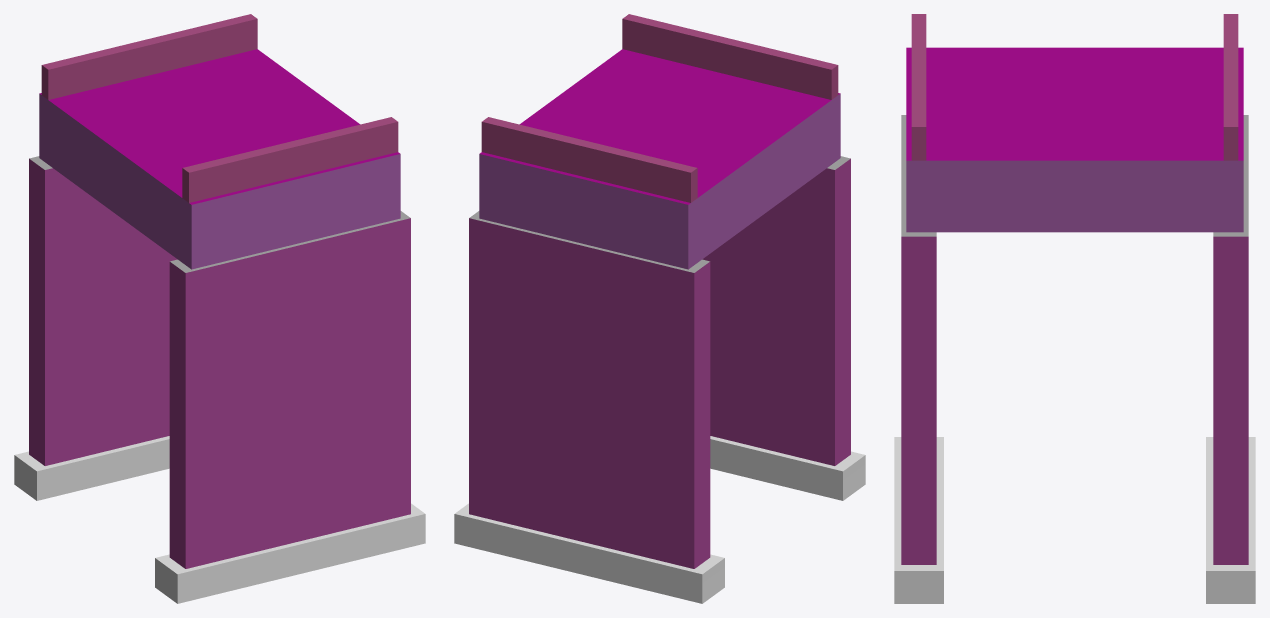
The model's file is Metal_Detector_base.fbx.
3 renders of one model, left to right at view 1: azimuth 30°, elevation 25°; view 2: azimuth 150°, elevation 25°; view 3: azimuth 270°, elevation 25°, orthographic. The views are drawn at different scales.
Parts seen in each view (by area): view 1: pCube3; view 2: pCube3; view 3: pCube3.
Boxes of the visible parts, box(x1,y1,x2,y2) form: pCube3: box(14, 14, 425, 603); pCube3: box(454, 14, 865, 603); pCube3: box(894, 14, 1255, 603).
Size of the model in its own units: 4.01 by 6.51 by 4.57.
